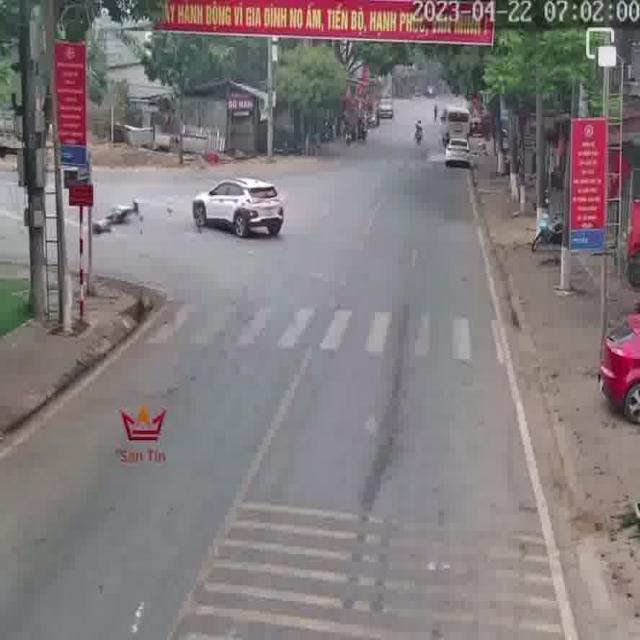multiple_accident: (86, 172, 292, 245)
